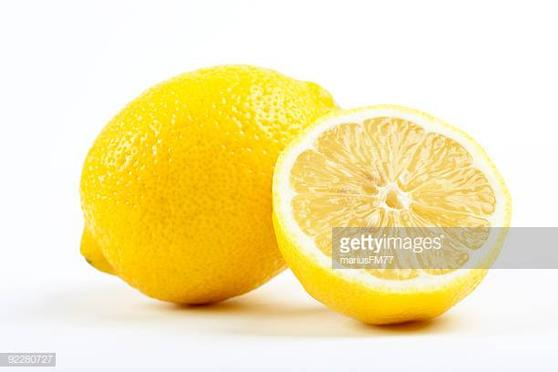lemon: (66, 61, 337, 304)
